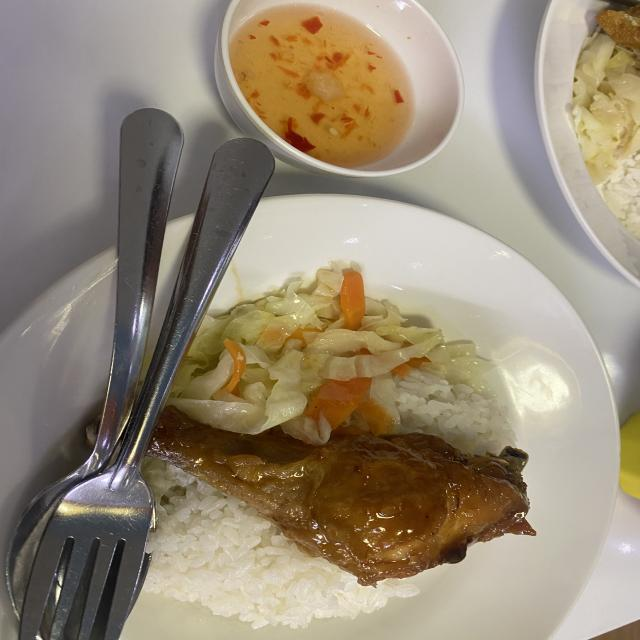ga chien: (146, 406, 536, 585)
rau: (166, 261, 477, 445)
